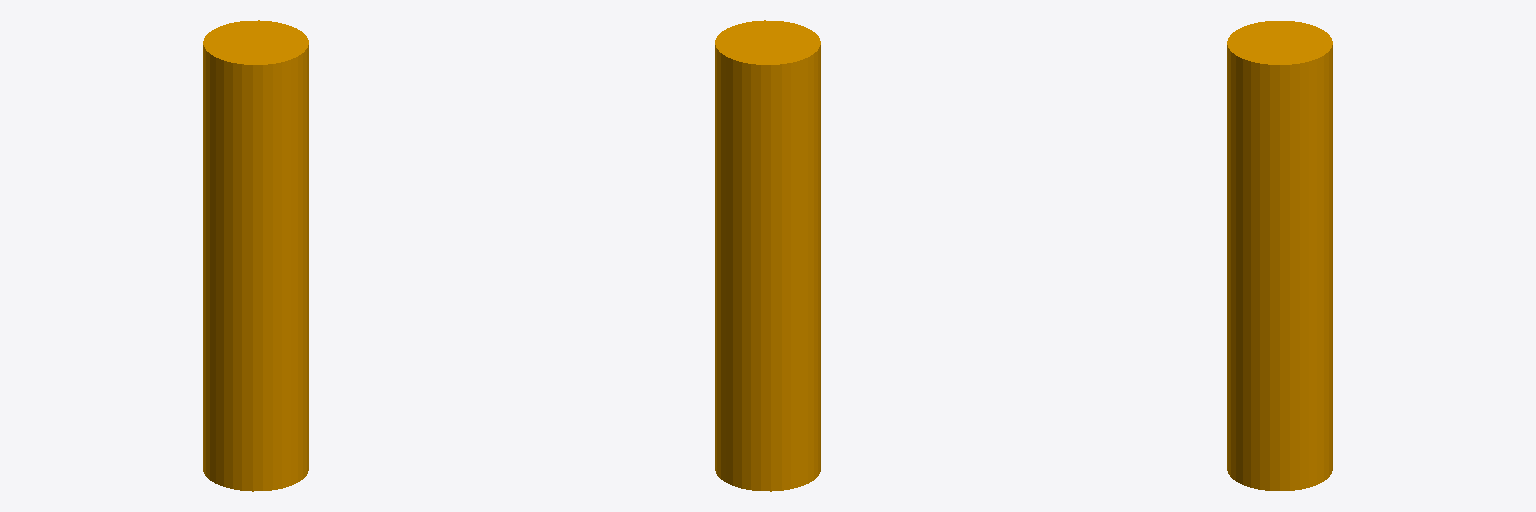
URDF robot description (cyl):
<?xml version="1.0" ?>

<robot name="cyl">

    <link name="cyl_object">
        <inertial>
            <mass value="1" />
            <inertia ixx="0.1" ixy="0"  ixz="0"
                    iyy="0.1" iyz="0"
                    izz="0.1" />
        </inertial> 
        <visual>
            <geometry>
                <cylinder length="0.2" radius="0.0225"/>
            </geometry>
            <origin rpy="0 0 0" xyz="0 0 0"/>
            <material name="Blue" />
        </visual>
        <collision>
            <geometry>
                <cylinder length="0.2" radius="0.0225"/>
            </geometry>
            <origin rpy="0 0 0" xyz="0 0 0"/>
        </collision>
    </link>

    <gazebo reference="cyl_object">
      <mu1>5</mu1>
      <mu2>5</mu2>
      <material>Gazebo/Green </material>
    </gazebo>
    <gazebo>
        <static>false</static>
    </gazebo>

</robot>

--- Render facts (derived) ---
Views: 3 orthographic renders of the robot side by side, from view 1: azimuth 30°, elevation 25°; view 2: azimuth 150°, elevation 25°; view 3: azimuth 270°, elevation 25°.
Robot: cyl — 1 links, 0 joints (none); root link cyl_object; default pose: every joint at zero.
Visible links, largest first — view 1: cyl_object; view 2: cyl_object; view 3: cyl_object.
Link boxes in pixels (box(x1,y1,x2,y2)): cyl_object: box(203, 20, 308, 491); cyl_object: box(715, 20, 820, 491); cyl_object: box(1227, 21, 1332, 490).
Bounding box of the posed robot: 0.045 × 0.045 × 0.2 m (x, y, z).
Geometry: primitives only (box / cylinder / sphere), no mesh files.